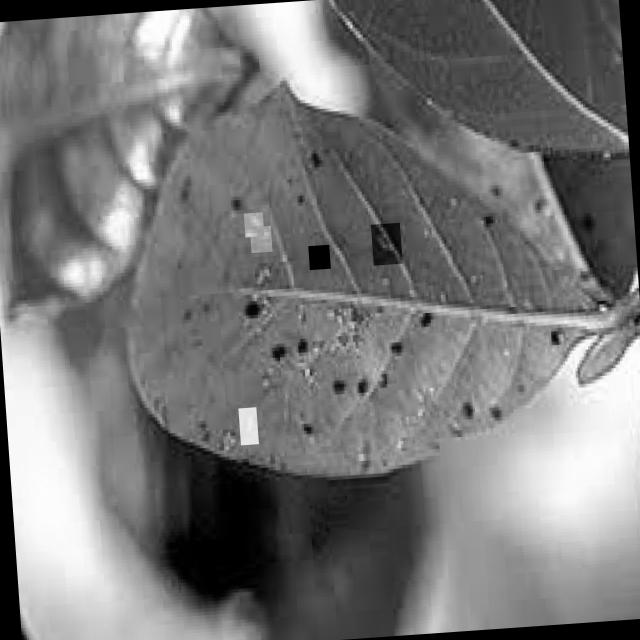aphid: (370, 222, 402, 265), (238, 407, 258, 445), (249, 225, 272, 252), (308, 244, 330, 270), (243, 212, 264, 236)
